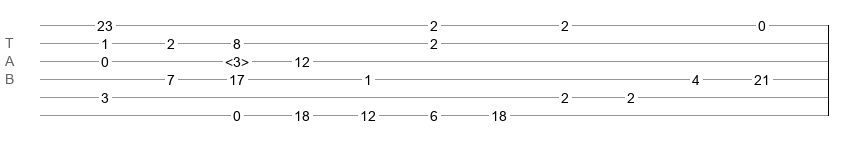0: (101, 54, 109, 64), (233, 108, 241, 118), (758, 18, 766, 28)
1: (101, 36, 109, 46), (364, 72, 372, 82)
12: (294, 54, 310, 64), (360, 108, 376, 118)
17: (229, 72, 245, 82)
18: (294, 108, 310, 118), (491, 108, 507, 118)
2: (167, 36, 175, 46), (430, 18, 438, 28), (430, 36, 438, 46), (561, 90, 569, 100), (561, 18, 569, 28), (627, 90, 635, 100)
21: (754, 72, 770, 82)
23: (97, 18, 113, 28)
3: (101, 90, 109, 100)
4: (692, 72, 700, 82)
6: (430, 108, 438, 118)
7: (167, 72, 175, 82)
8: (233, 36, 241, 46)
harmonic: (225, 54, 249, 64)
